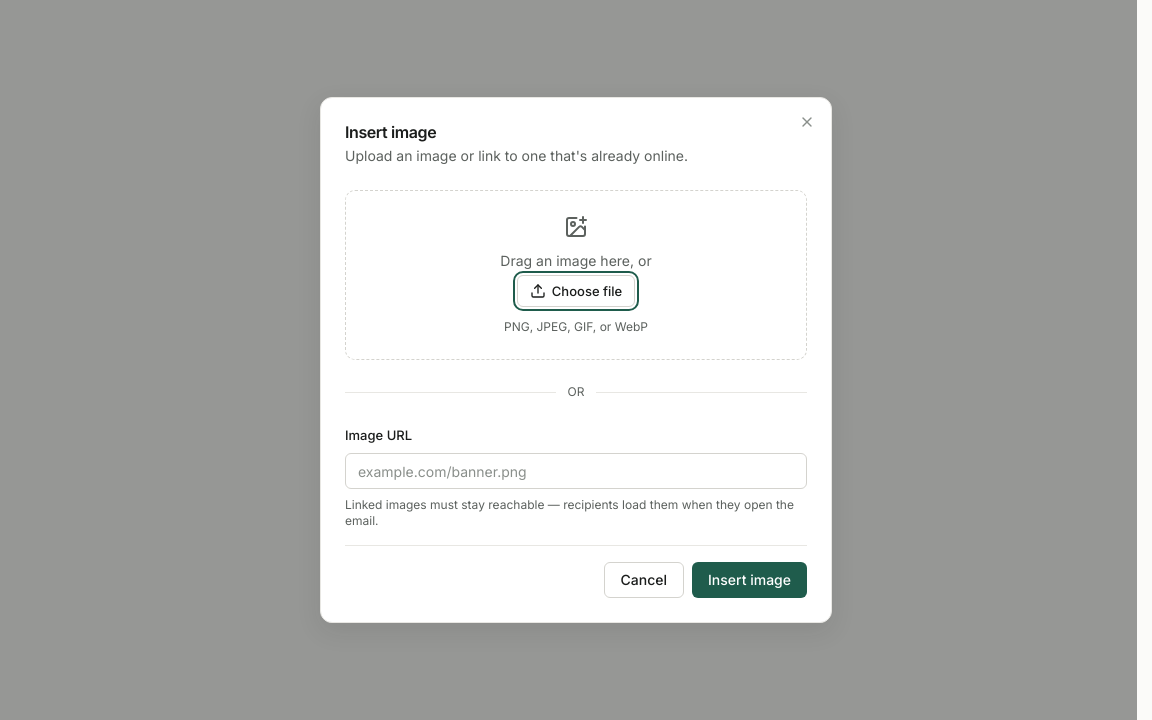
Test: ImageDialog › refuses an empty link submission, and says why
Click the button "Insert image" at (750, 580), box [692,562,807,598]
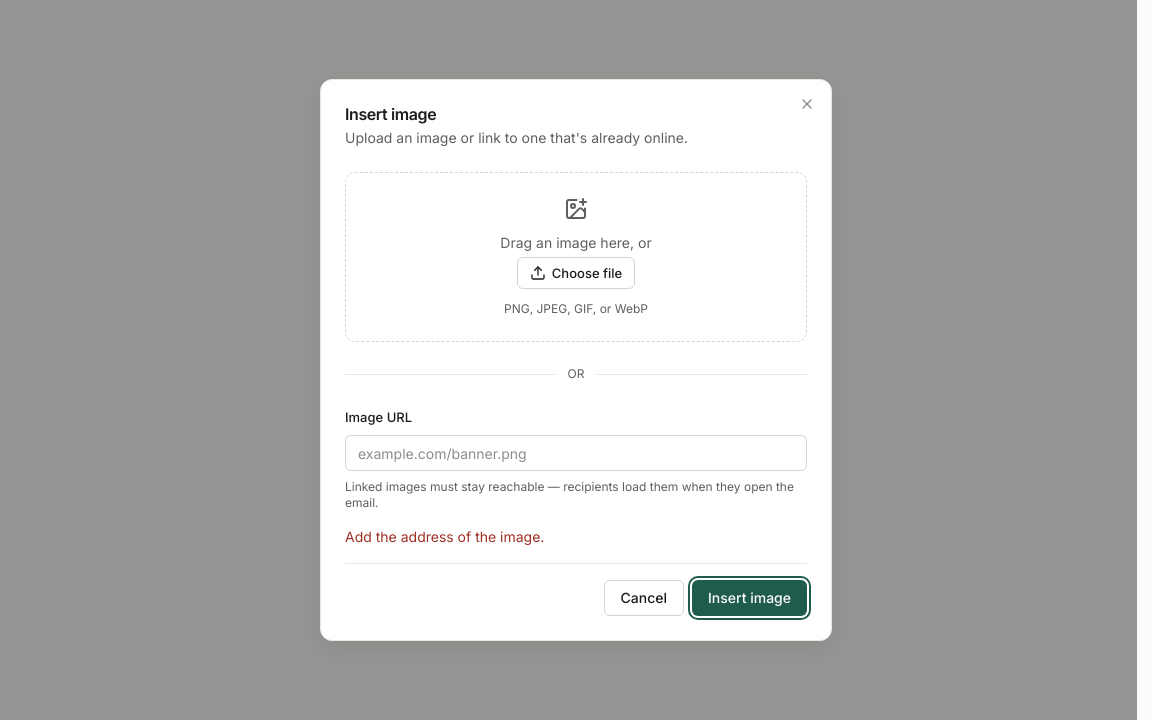
Result: the message reads "Add the address of the image." at [345,528,544,545]
